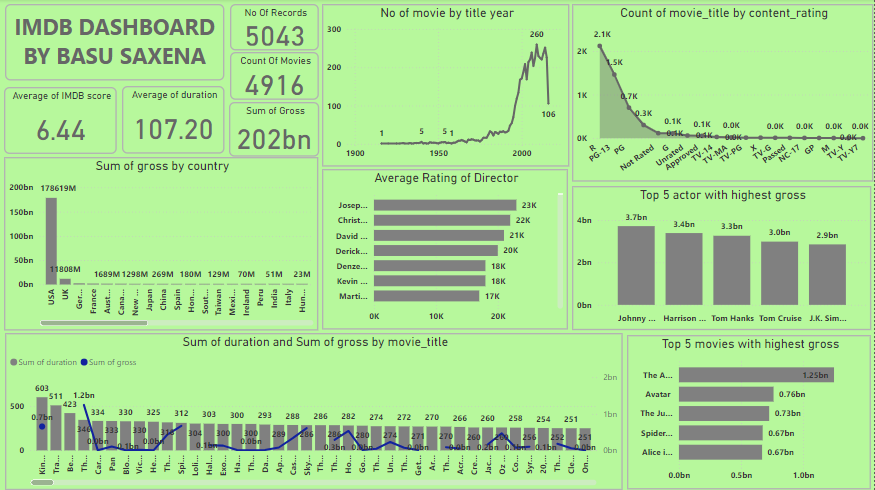

The dashboard page shown, as its layout file describes it:
{"tool":"powerbi","page":{"name":"Page 1","canvas":[1280,720],"ordinal":0},"visuals":[{"type":"card","title":"Average of duration","fields":{"Values":["Basu Saxena - IMDB Movies Data - movie_metadata.duration"]},"box":[178,128,150,98.8],"z":0},{"type":"card","title":"Sum of Gross","fields":{"Values":["Basu Saxena - IMDB Movies Data - movie_metadata.gross"]},"box":[335,150,132,80],"z":1000},{"type":"card","title":"Average of IMDB score","fields":{"Values":["Basu Saxena - IMDB Movies Data - movie_metadata.imdb_score"]},"box":[6.1,126.8,165.8,100],"z":2000},{"type":"card","title":"No Of Records","fields":{"Values":["Basu Saxena - IMDB Movies Data - movie_metadata.color"]},"box":[336,7,130,68],"z":3000},{"type":"barChart","title":"Top 5 movies with highest gross","fields":{"Category":["Basu Saxena - IMDB Movies Data - movie_metadata.movie_title"],"Y":["Basu Saxena - IMDB Movies Data - movie_metadata.gross"]},"box":[916.9,491.4,357.3,225.6],"z":4000},{"type":"columnChart","title":"Top 5 actor with highest gross","fields":{"Category":["Basu Saxena - IMDB Movies Data - movie_metadata.actor_1_name"],"Y":["Basu Saxena - IMDB Movies Data - movie_metadata.gross"]},"box":[836.4,274.3,437.7,210.9],"z":5000},{"type":"lineClusteredColumnComboChart","fields":{"Category":["Basu Saxena - IMDB Movies Data - movie_metadata.movie_title"],"Y":["Basu Saxena - IMDB Movies Data - movie_metadata.duration"],"Y2":["Basu Saxena - IMDB Movies Data - movie_metadata.gross"]},"box":[7.3,488.9,904.7,229.2],"z":6000},{"type":"card","title":"Count Of Movies","fields":{"Values":["Basu Saxena - IMDB Movies Data - movie_metadata.movie_title"]},"box":[336,78,130,70],"z":7000},{"type":"areaChart","fields":{"Category":["Basu Saxena - IMDB Movies Data - movie_metadata.content_rating"],"Y":["Basu Saxena - IMDB Movies Data - movie_metadata.movie_title"]},"box":[836.4,7.3,441.4,259.7],"z":8000},{"type":"lineClusteredColumnComboChart","fields":{"Category":["Basu Saxena - IMDB Movies Data - movie_metadata.country"],"Y":["Basu Saxena - IMDB Movies Data - movie_metadata.gross"]},"box":[6.1,231.7,459.7,253.6],"z":9000},{"type":"clusteredBarChart","title":"Average Rating of Director","fields":{"Category":["Basu Saxena - IMDB Movies Data - movie_metadata.director_name"],"Y":["Basu Saxena - IMDB Movies Data - movie_metadata.director_facebook_likes"]},"box":[471.9,248.7,359.7,235.3],"z":10000},{"type":"lineChart","title":"No of movie by title year","fields":{"Category":["Basu Saxena - IMDB Movies Data - movie_metadata.title_year"],"Y":["Basu Saxena - IMDB Movies Data - movie_metadata.movie_title"]},"box":[471.9,7.3,362.1,237.8],"z":11000},{"type":"textbox","box":[7,7,321,112],"z":12000}]}

Visuals, with their boxes in screenshot pixels (x1, y1, x2, y2), scaled from the page's 1280x720 canvas onto the 875x490 screenshot:
"Average of duration" card: box(122, 87, 224, 154)
"Sum of Gross" card: box(229, 102, 319, 157)
"Average of IMDB score" card: box(4, 86, 118, 154)
"No Of Records" card: box(230, 5, 319, 51)
"Top 5 movies with highest gross" barChart: box(627, 334, 871, 488)
"Top 5 actor with highest gross" columnChart: box(572, 187, 871, 330)
lineClusteredColumnComboChart - Basu Saxena - IMDB Movies Data - movie_metadata.movie_title x Basu Saxena - IMDB Movies Data - movie_metadata.duration: box(5, 333, 623, 489)
"Count Of Movies" card: box(230, 53, 319, 101)
areaChart - Basu Saxena - IMDB Movies Data - movie_metadata.content_rating x Basu Saxena - IMDB Movies Data - movie_metadata.movie_title: box(572, 5, 873, 182)
lineClusteredColumnComboChart - Basu Saxena - IMDB Movies Data - movie_metadata.country x Basu Saxena - IMDB Movies Data - movie_metadata.gross: box(4, 158, 318, 330)
"Average Rating of Director" clusteredBarChart: box(323, 169, 568, 329)
"No of movie by title year" lineChart: box(323, 5, 570, 167)
textbox: box(5, 5, 224, 81)
